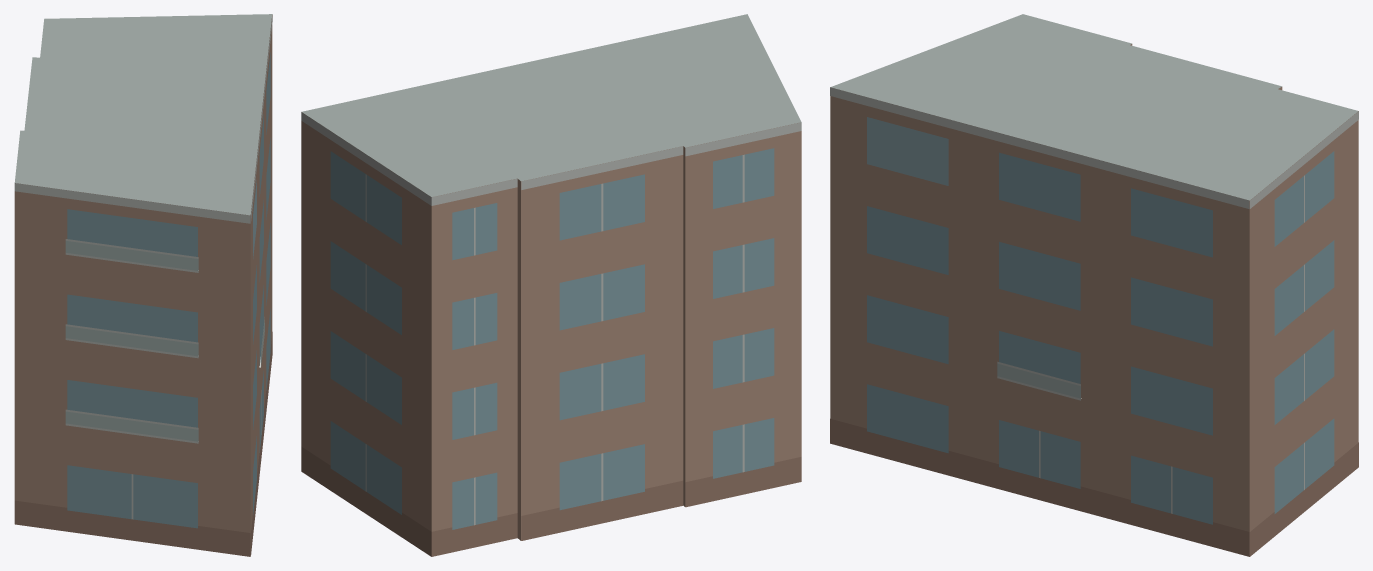
The model's file is survey-upis-32551948.glb.
3 renders of one model, left to right at view 1: azimuth 30°, elevation 25°; view 2: azimuth 150°, elevation 25°; view 3: azimuth 270°, elevation 25°, orthographic. The views are drawn at different scales.
Parts seen in each view (by area): view 1: survey-upis-32551948.tmp; view 2: survey-upis-32551948.tmp; view 3: survey-upis-32551948.tmp.
Boxes of the visible parts, box(x1,y1,x2,y2) form: survey-upis-32551948.tmp: box(14, 14, 272, 556); survey-upis-32551948.tmp: box(301, 14, 801, 556); survey-upis-32551948.tmp: box(830, 14, 1358, 556).
Size of the model in its own units: 11.18 by 9.95 by 13.38.
